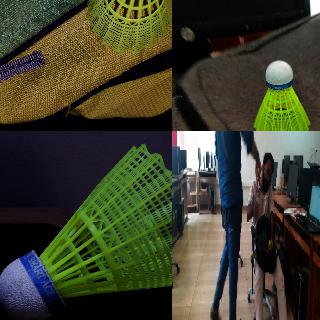shuttlecock: (0, 142, 171, 319), (85, 0, 172, 51), (253, 59, 312, 130), (268, 239, 271, 249)
